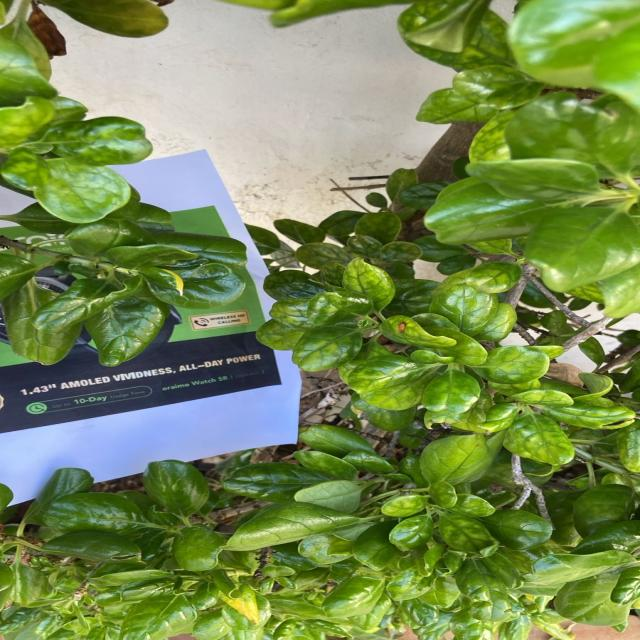Oraimo Watch 5R OSW-820: (152, 367, 277, 394)
